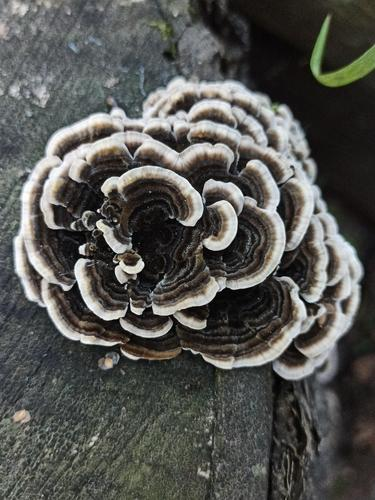Non-edible Mushroom: (12, 76, 364, 380)
